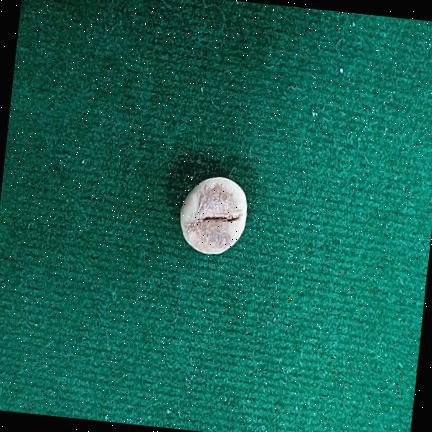husk: (180, 177, 247, 254)
